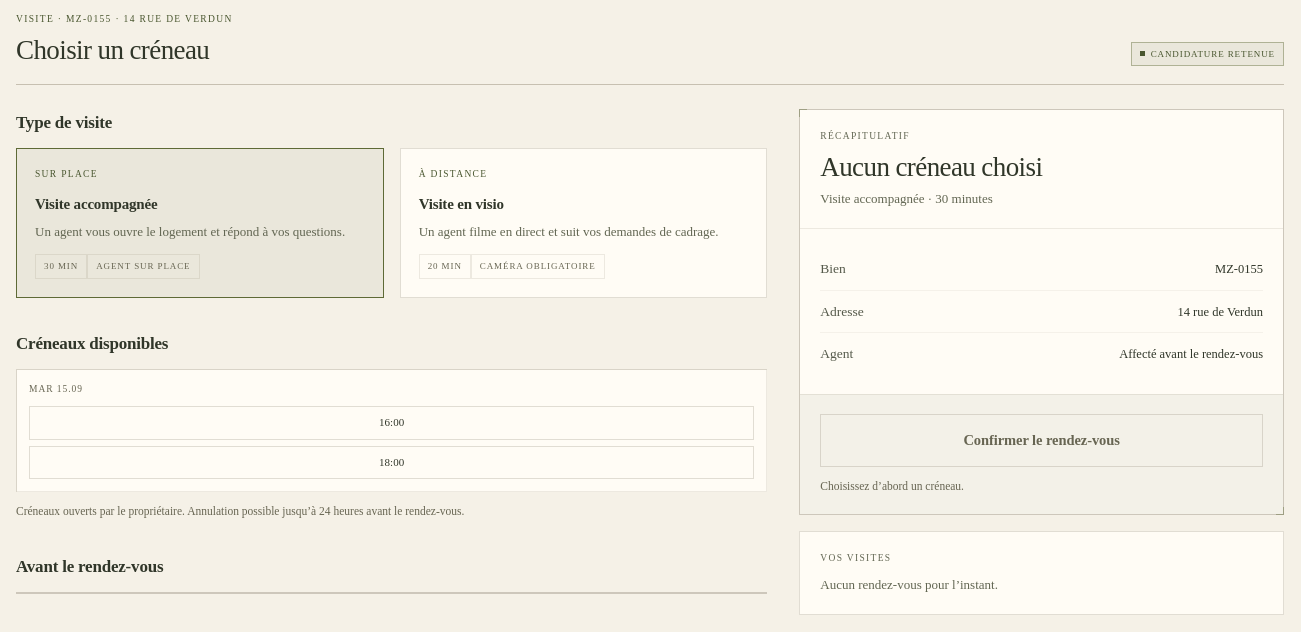
VisitBookingScreen › relâche le créneau retenu si le type change
Click the button "16:00".
click(392, 423)  # box x1=29 y1=406 x2=754 y2=440
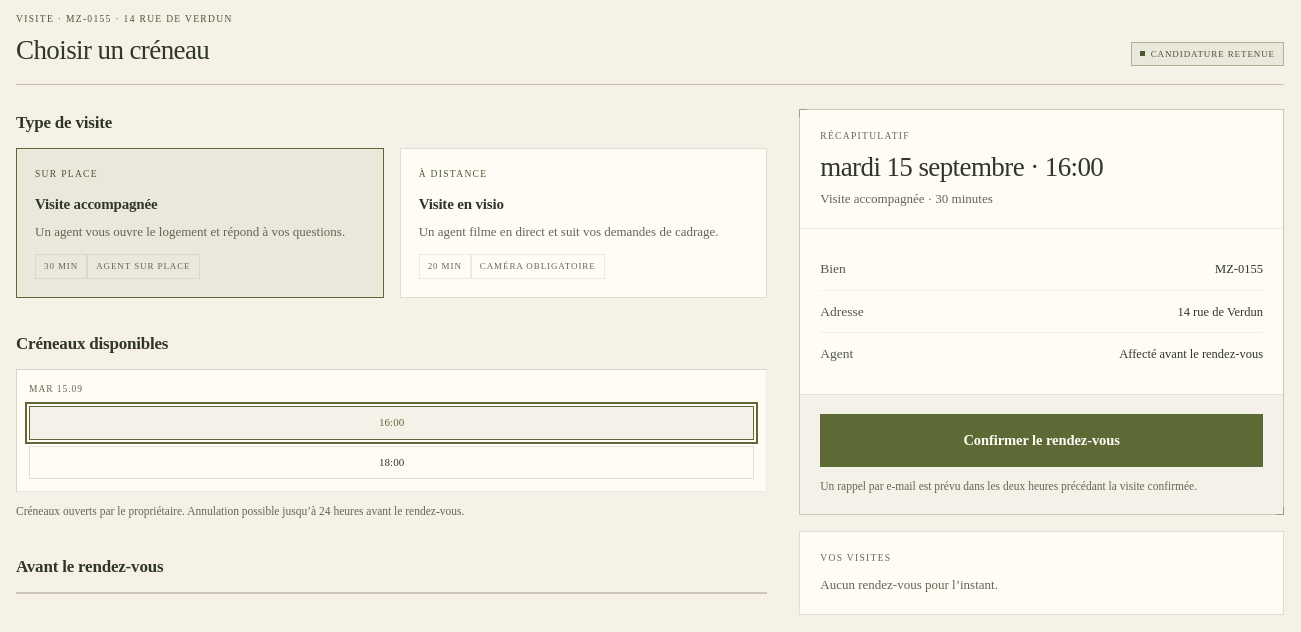
Expected: the button "Confirmer le rendez-vous" is enabled, x1=820 y1=414 x2=1263 y2=467
Click the text "Visite en visio".
click(461, 204)  # box x1=419 y1=196 x2=504 y2=212
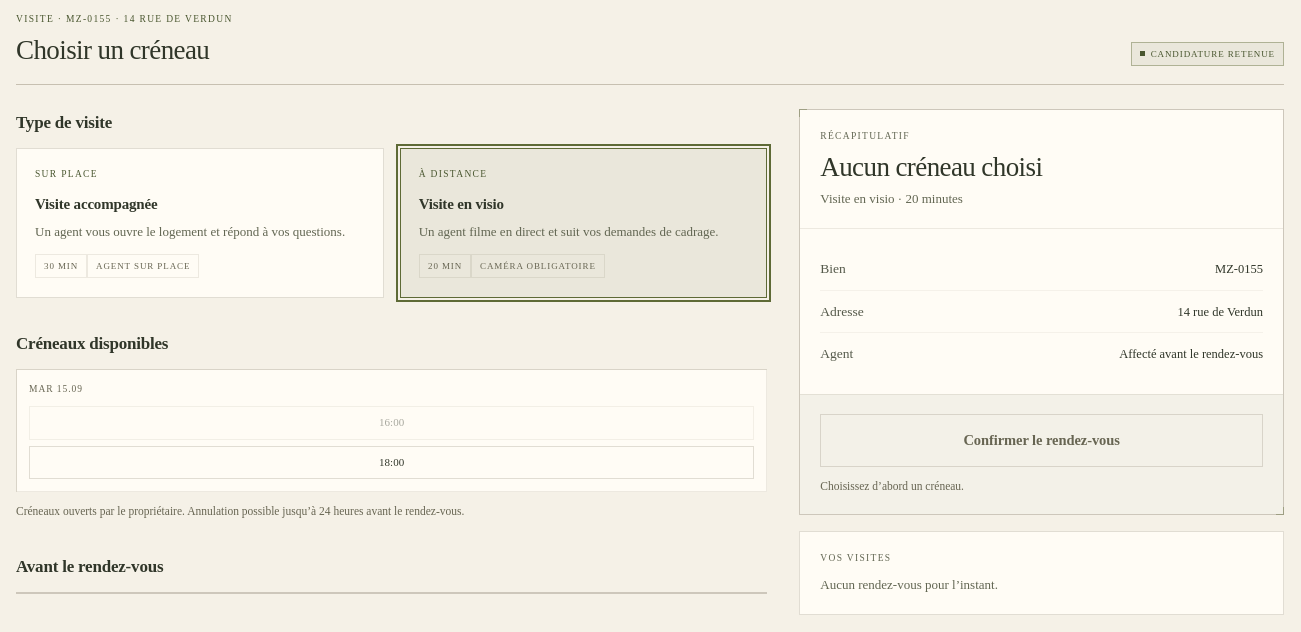
Expected: the button "Confirmer le rendez-vous" is disabled, x1=820 y1=414 x2=1263 y2=467
Expected: the text "Choisissez d’abord un créneau." is shown, x1=820 y1=480 x2=964 y2=492
